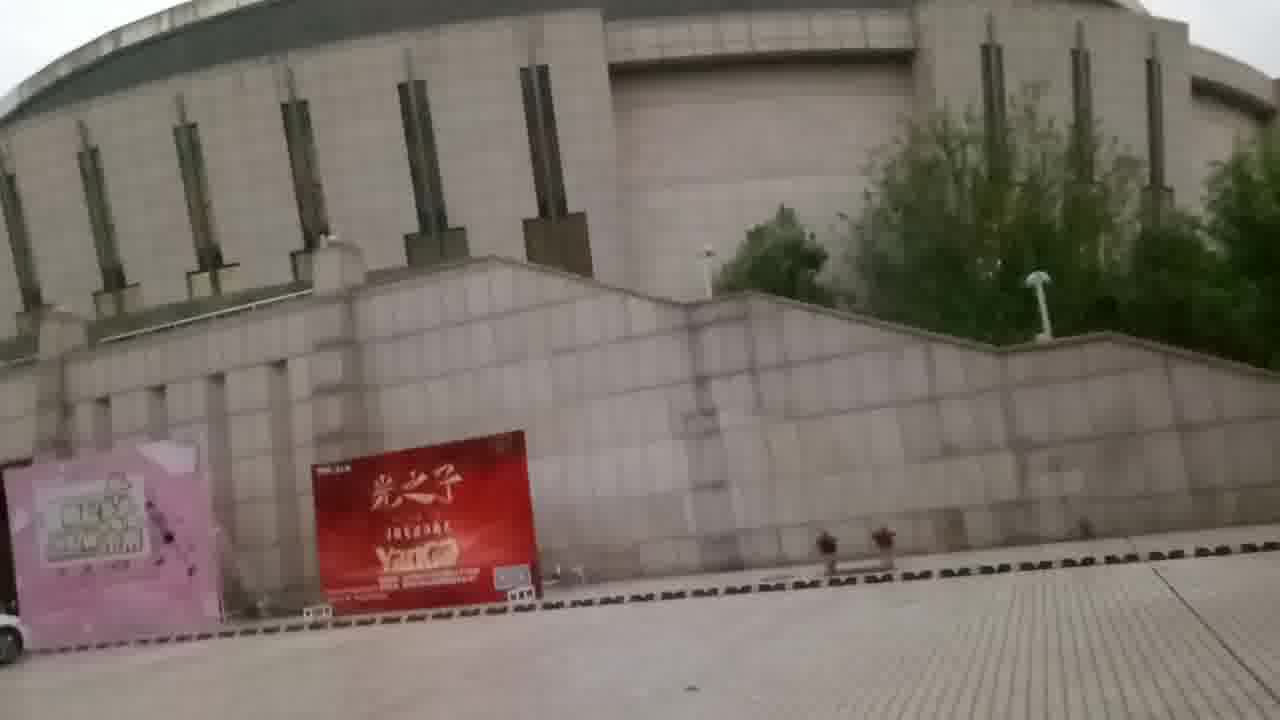zhongtiww: (3, 1, 1280, 594)
